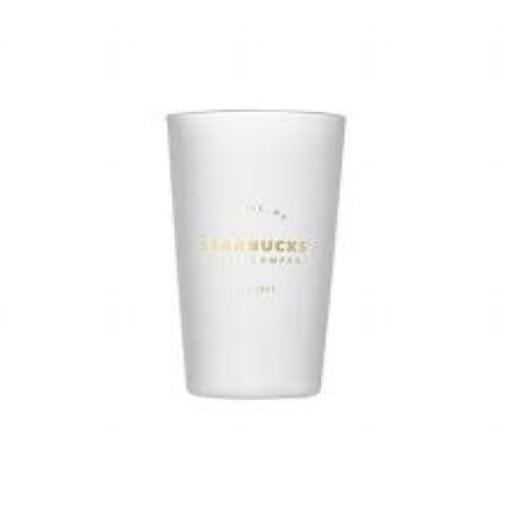glass: (163, 107, 342, 396)
